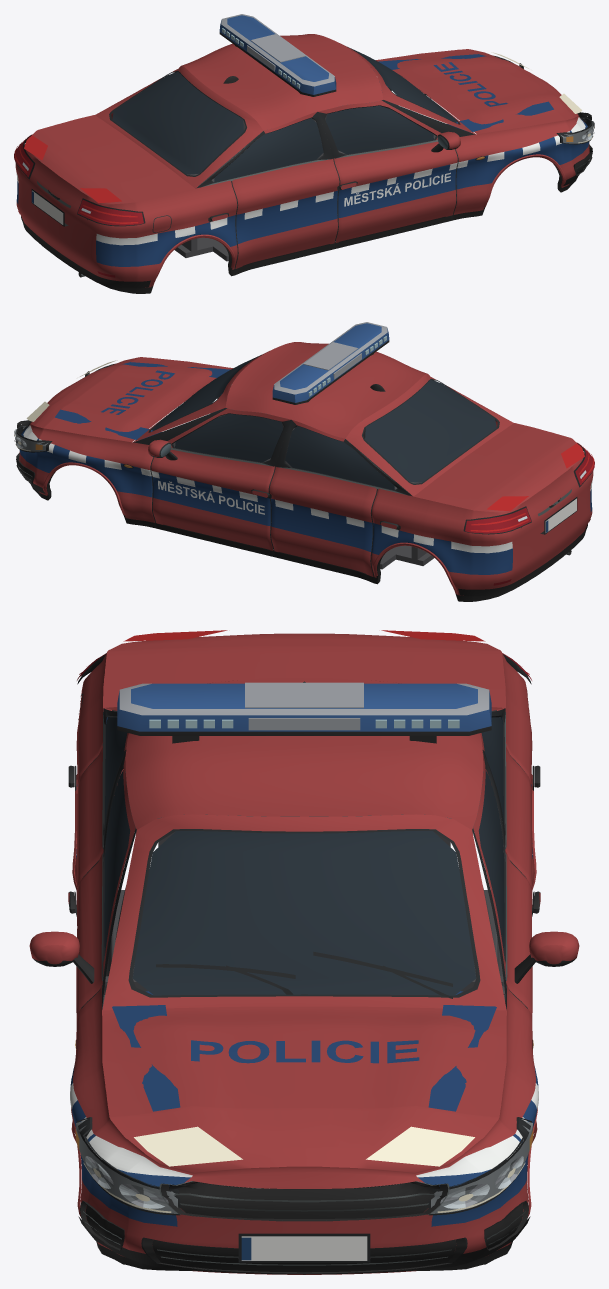
File: police_city-street.glb
3 views of the same model, one above another, from view 1: azimuth 30°, elevation 25°; view 2: azimuth 150°, elevation 25°; view 3: azimuth 270°, elevation 25° (orthographic). The views are drawn at different scales.
Parts seen in each view (by area): view 1: police_city, police_city_door2, police_city_door4, police_city_street_trim, police_city_door2_vinyl, police_city_vinyl; view 2: police_city, police_city_door1, police_city_door3, police_city_street_trim, police_city_door1_vinyl, police_city_vinyl; view 3: police_city, police_city_street_trim, police_city_door2, police_city_door1, police_city_door3, police_city_door4, police_city_vinyl.
Part boxes in pixels (box(x1,y1,x2,y2)): police_city: box(15, 14, 589, 293); police_city_door2: box(317, 100, 460, 242); police_city_door4: box(196, 112, 339, 268); police_city_street_trim: box(14, 55, 594, 288); police_city_door2_vinyl: box(344, 172, 450, 206); police_city_vinyl: box(433, 62, 507, 106); police_city: box(19, 322, 593, 601); police_city_door1: box(148, 408, 291, 550); police_city_door3: box(269, 420, 412, 576); police_city_street_trim: box(14, 363, 594, 596); police_city_door1_vinyl: box(158, 480, 264, 514); police_city_vinyl: box(101, 370, 174, 414); police_city: box(70, 630, 538, 1274); police_city_street_trim: box(75, 653, 533, 1274); police_city_door2: box(29, 750, 135, 1015); police_city_door1: box(473, 750, 579, 1015); police_city_door3: box(480, 708, 540, 1005); police_city_door4: box(68, 708, 128, 1005); police_city_vinyl: box(191, 1040, 419, 1063).
Bounding box in the file's own units: 4.8 × 1.47 × 2.22.
